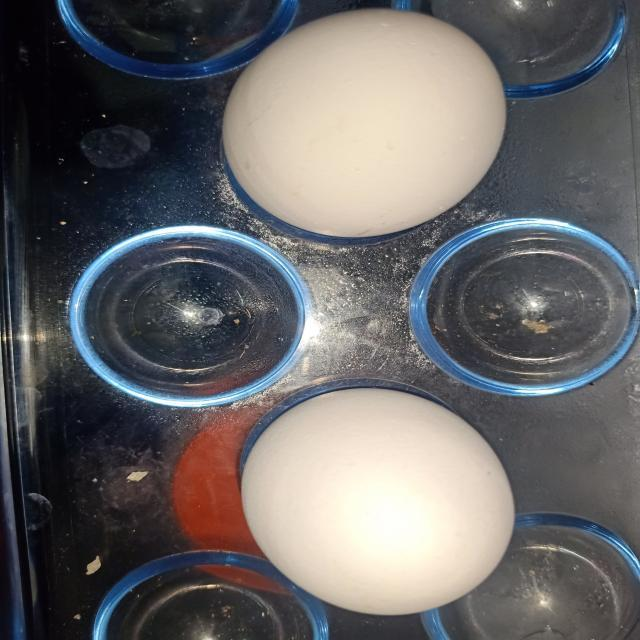Egg: (233, 372, 552, 634), (204, 0, 516, 246)
